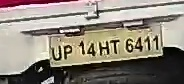1: (77, 41, 89, 60), (142, 35, 153, 55), (152, 34, 161, 54)
4: (134, 35, 145, 54), (86, 41, 97, 59)
6: (124, 36, 135, 55)
H: (98, 40, 110, 59)
P: (62, 44, 74, 62)
T: (108, 36, 122, 56)
U: (51, 44, 64, 65)
